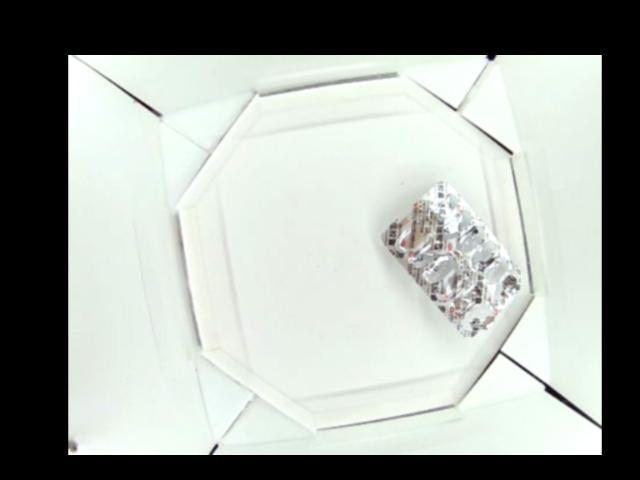Medicine: (378, 175, 523, 337)
